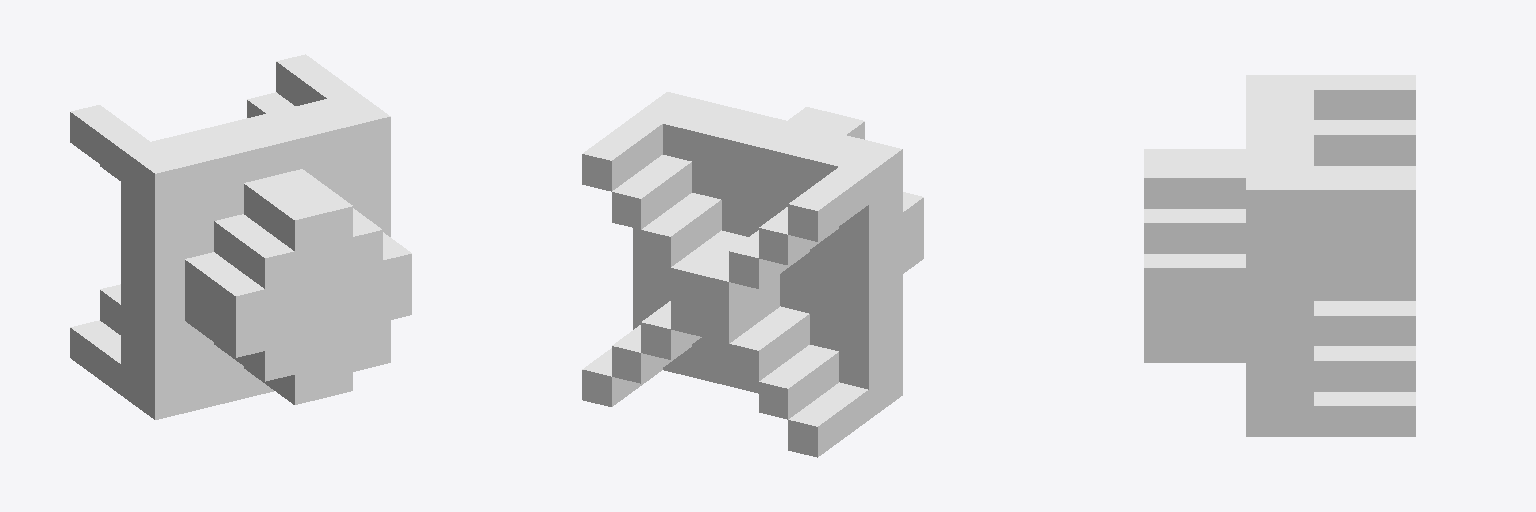
Rendered from Bomb.obj.
The picture shows the model from 3 angles: view 1: azimuth 30°, elevation 25°; view 2: azimuth 150°, elevation 25°; view 3: azimuth 270°, elevation 25°; orthographic projection.
Parts seen in each view (by area): view 1: object 1; view 2: object 1; view 3: object 1.
Boxes of the visible parts, x1,y1,x2,y2 form: object 1: [70, 54, 411, 419]; object 1: [582, 92, 923, 457]; object 1: [1144, 75, 1415, 436].
Size of the model in its own units: 0.8 by 0.8 by 0.8.